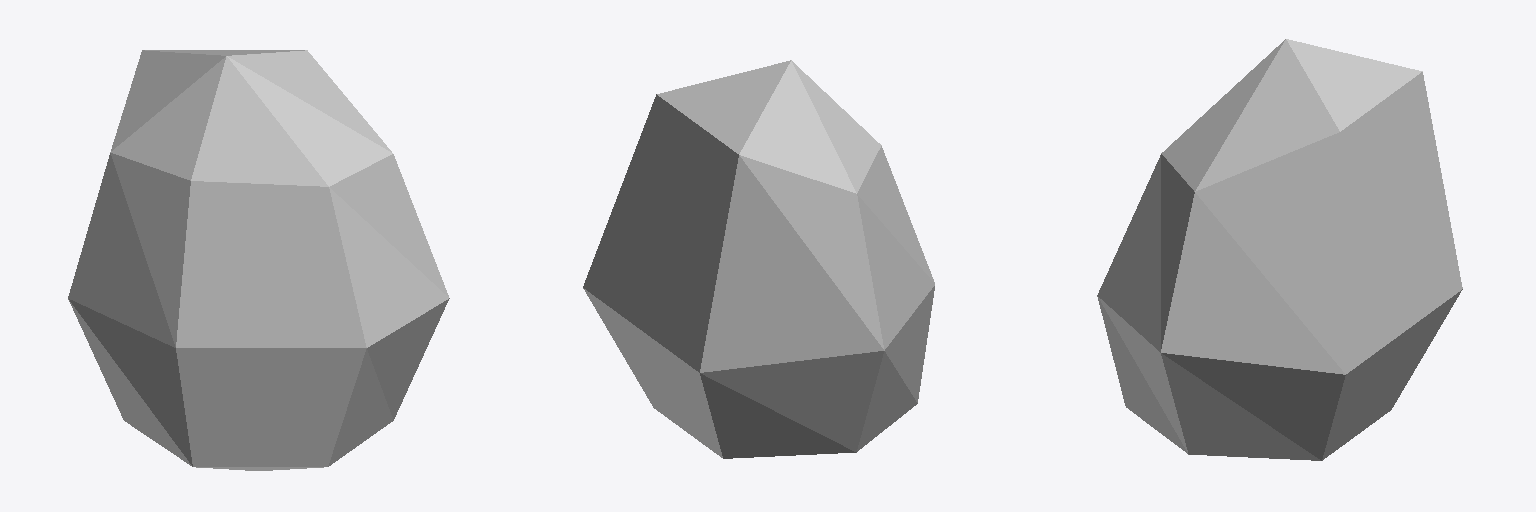
File: RockSmall2.obj
3 renders of one model, left to right at view 1: azimuth 30°, elevation 25°; view 2: azimuth 150°, elevation 25°; view 3: azimuth 270°, elevation 25°, orthographic.
Parts seen in each view (by area): view 1: RockSmall2_Sphere; view 2: RockSmall2_Sphere; view 3: RockSmall2_Sphere.
Boxes of the visible parts, x1,y1,x2,y2 form: RockSmall2_Sphere: [68, 50, 449, 470]; RockSmall2_Sphere: [583, 60, 934, 458]; RockSmall2_Sphere: [1097, 39, 1462, 460].
Bounding box in the file's own units: 1.84 × 2.36 × 1.92.